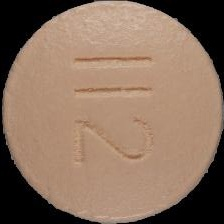0006-0112: (0, 0, 224, 224)
